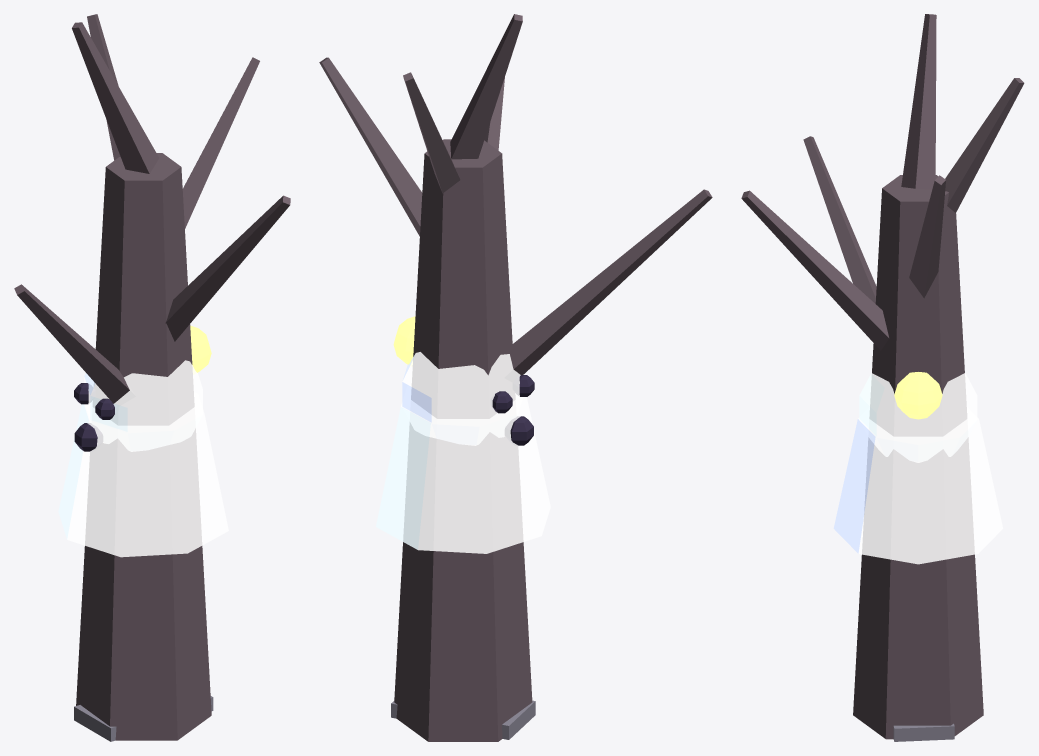
The model's file is props.glb.
3 views of the same model, side by side, from view 1: azimuth 30°, elevation 25°; view 2: azimuth 150°, elevation 25°; view 3: azimuth 270°, elevation 25° (orthographic). The views are drawn at different scales.
Parts seen in each view (by area): view 1: Tree, FloatingGhost, Tombstone, Lamp; view 2: Tree, FloatingGhost, Lamp, Tombstone; view 3: Tree, FloatingGhost, Lamp, Tombstone.
Boxes of the visible parts, x1,y1,x2,y2 form: Tree: [14, 14, 290, 740]; FloatingGhost: [58, 360, 228, 557]; Tombstone: [74, 696, 213, 741]; Lamp: [190, 325, 211, 374]; Tree: [319, 14, 712, 741]; FloatingGhost: [376, 352, 550, 553]; Lamp: [393, 316, 415, 365]; Tombstone: [391, 700, 535, 739]; Tree: [741, 14, 1024, 739]; FloatingGhost: [833, 373, 1002, 564]; Lamp: [894, 372, 942, 419]; Tombstone: [893, 723, 954, 741].
Bounding box in the file's own units: 2.87 × 6.15 × 2.34.
